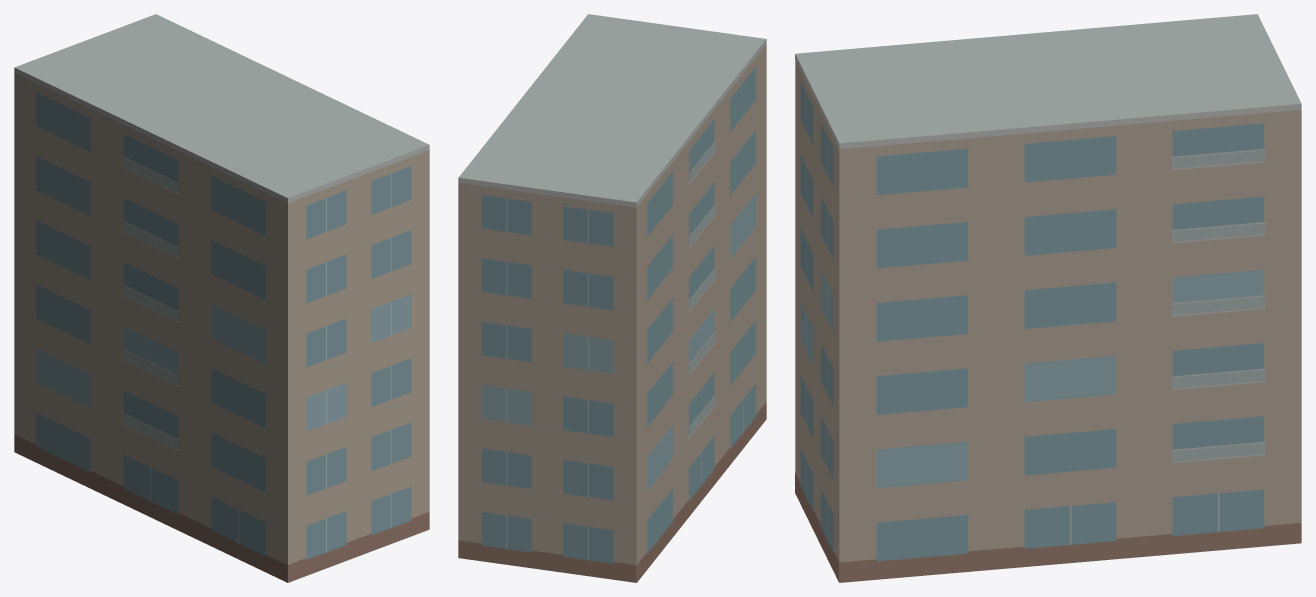
File: survey-upis-32634374.glb
3 views of the same model, side by side, from view 1: azimuth 30°, elevation 25°; view 2: azimuth 150°, elevation 25°; view 3: azimuth 270°, elevation 25° (orthographic). The views are drawn at different scales.
Visible parts, largest first — view 1: survey-upis-32634374.tmp; view 2: survey-upis-32634374.tmp; view 3: survey-upis-32634374.tmp.
Boxes of the visible parts, bbox=[...] form: survey-upis-32634374.tmp: bbox=[14, 14, 429, 582]; survey-upis-32634374.tmp: bbox=[458, 14, 766, 582]; survey-upis-32634374.tmp: bbox=[795, 14, 1301, 582].
Bounding box in the file's own units: 11.41 × 18.05 × 18.87.
